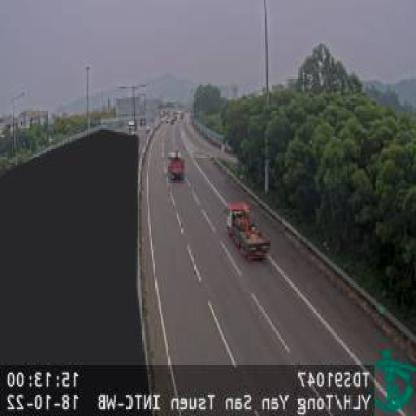Truck: (223, 200, 274, 264), (167, 150, 184, 183)
